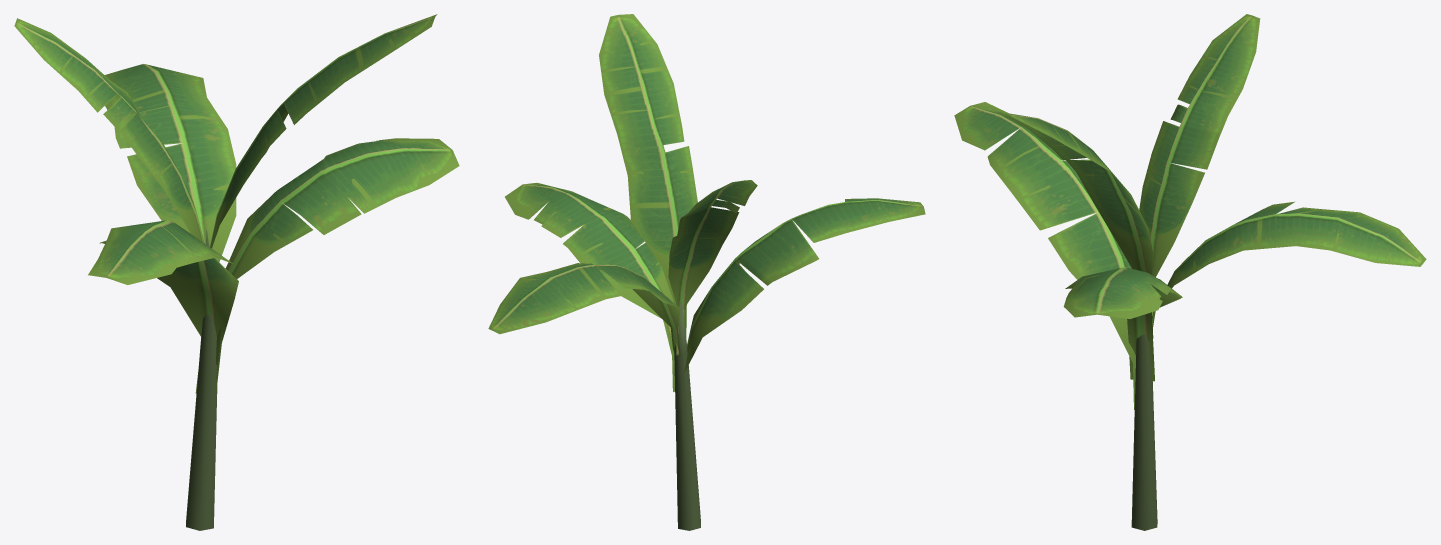
File: P_BananaTree01.obj
3 renders of one model, left to right at view 1: azimuth 30°, elevation 25°; view 2: azimuth 150°, elevation 25°; view 3: azimuth 270°, elevation 25°, orthographic. The views are drawn at different scales.
Size of the model in its own units: 2.67 by 3.1 by 2.75.
